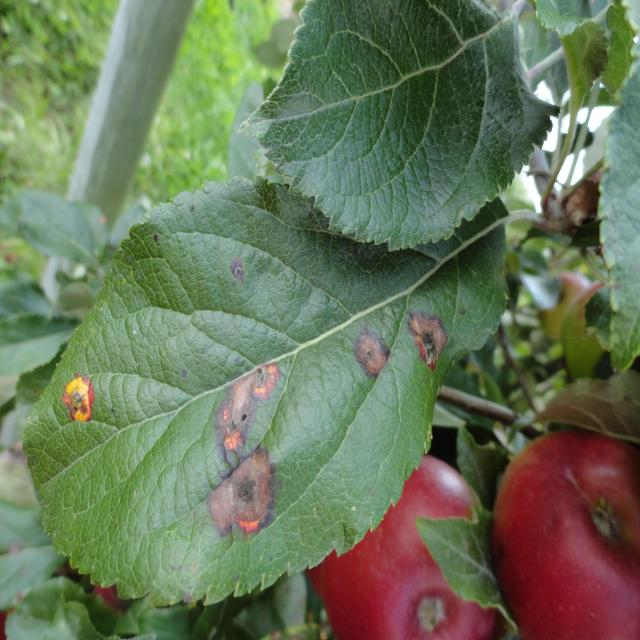rust: (19, 176, 510, 608)
